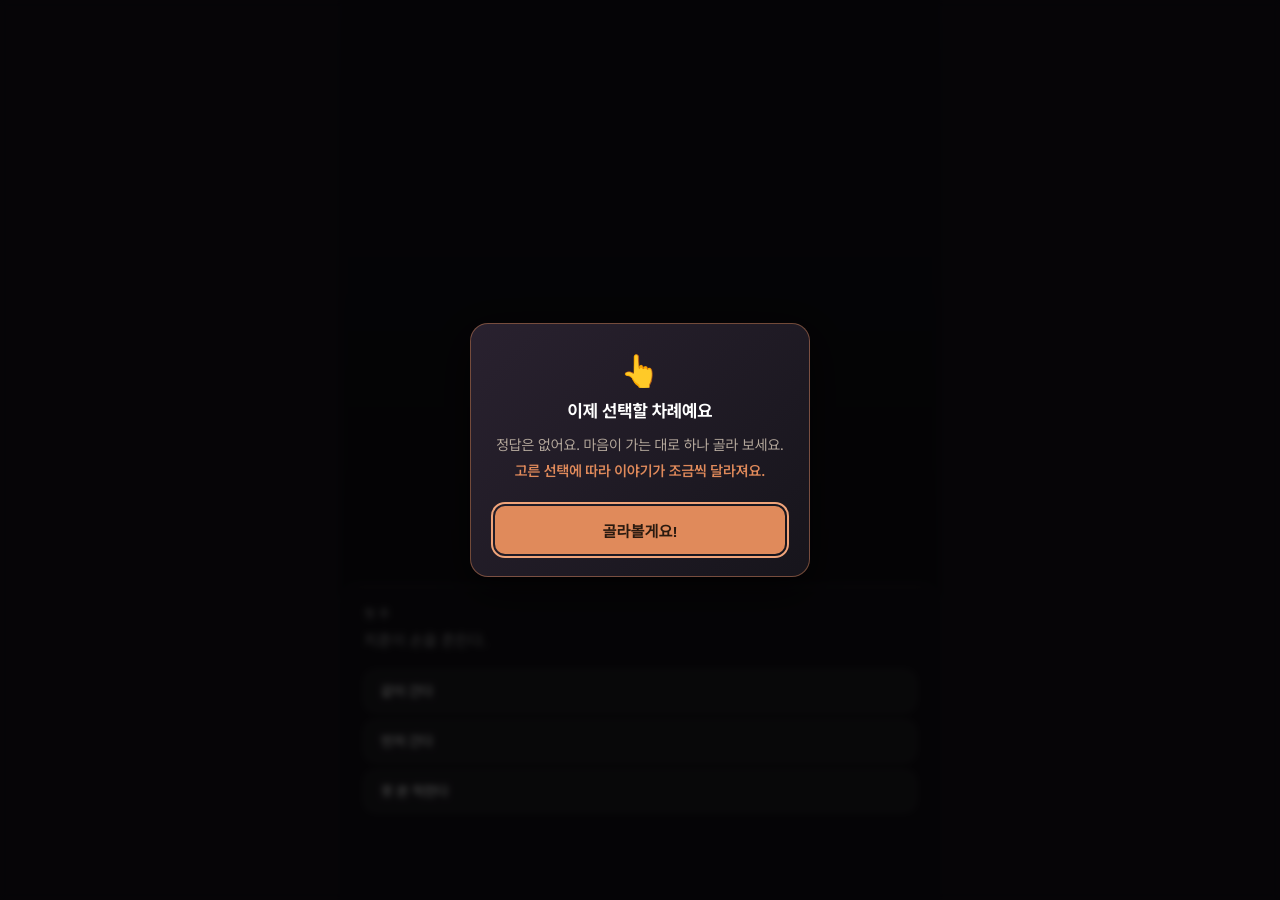
첫 선택 안내 — 닫은 뒤 › choiceHint_returns_focus_to_choices: 포커스가 첫 선택지로 돌아온다
Click the button "골라볼게요!" at (640, 530), box [495,506,785,554]
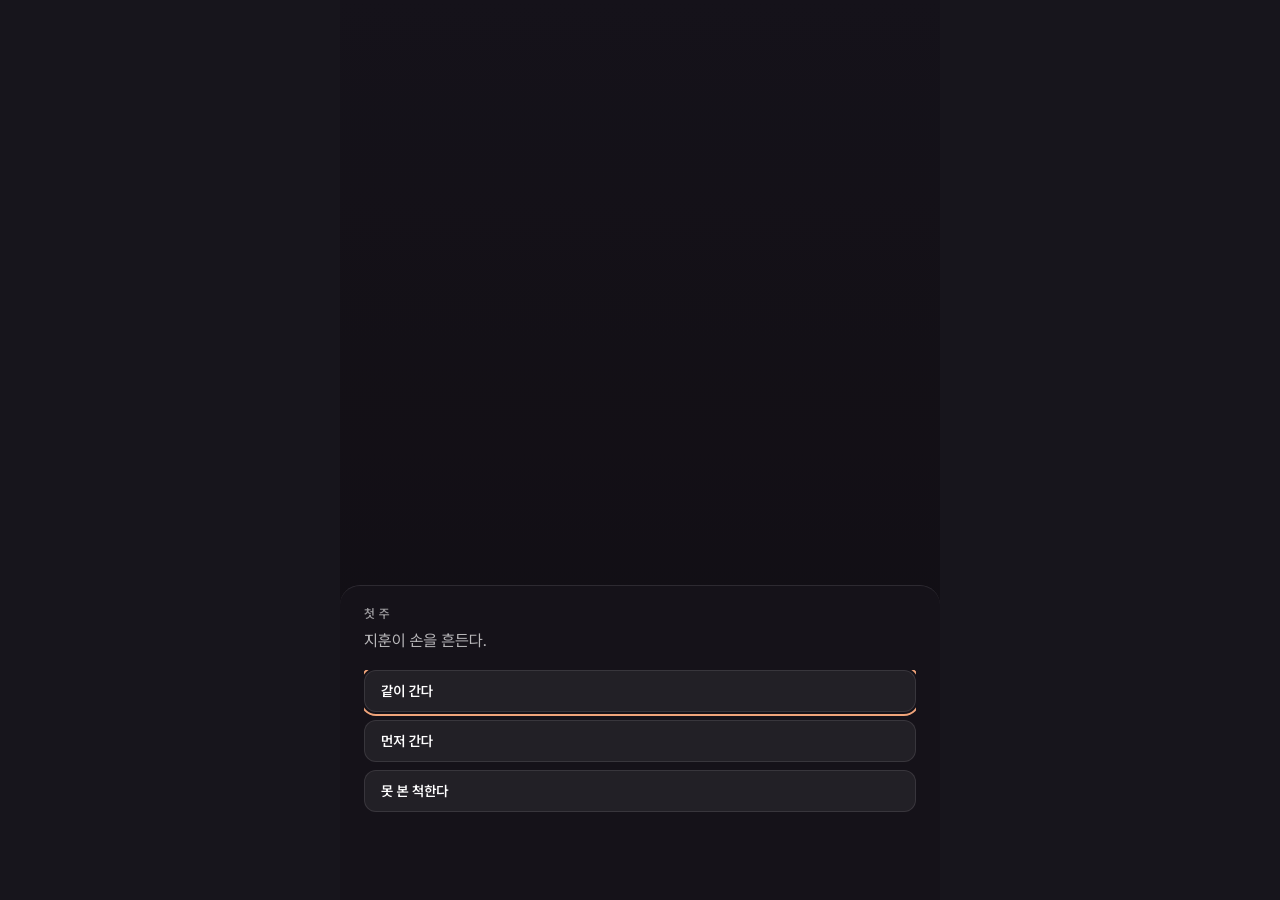
Expected: the text "이제 선택할 차례예요" is gone
